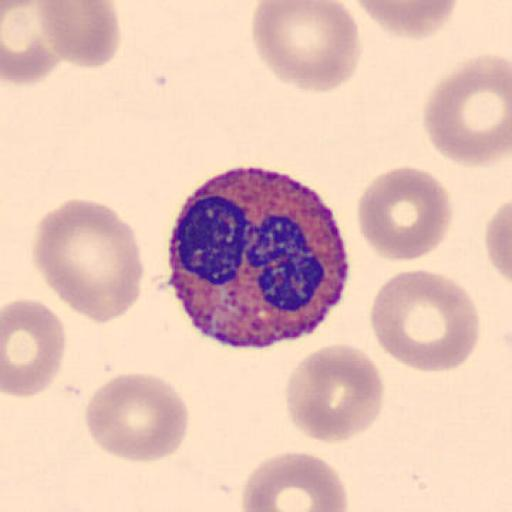RBC: (30, 196, 144, 324), (368, 268, 481, 374), (250, 0, 362, 95), (284, 342, 386, 445), (421, 54, 512, 166), (85, 370, 191, 465), (356, 165, 454, 262), (240, 450, 349, 512), (2, 298, 68, 399), (36, 1, 122, 68), (1, 0, 62, 86), (346, 0, 460, 41), (485, 196, 512, 285)
WBC: (164, 162, 351, 349)
